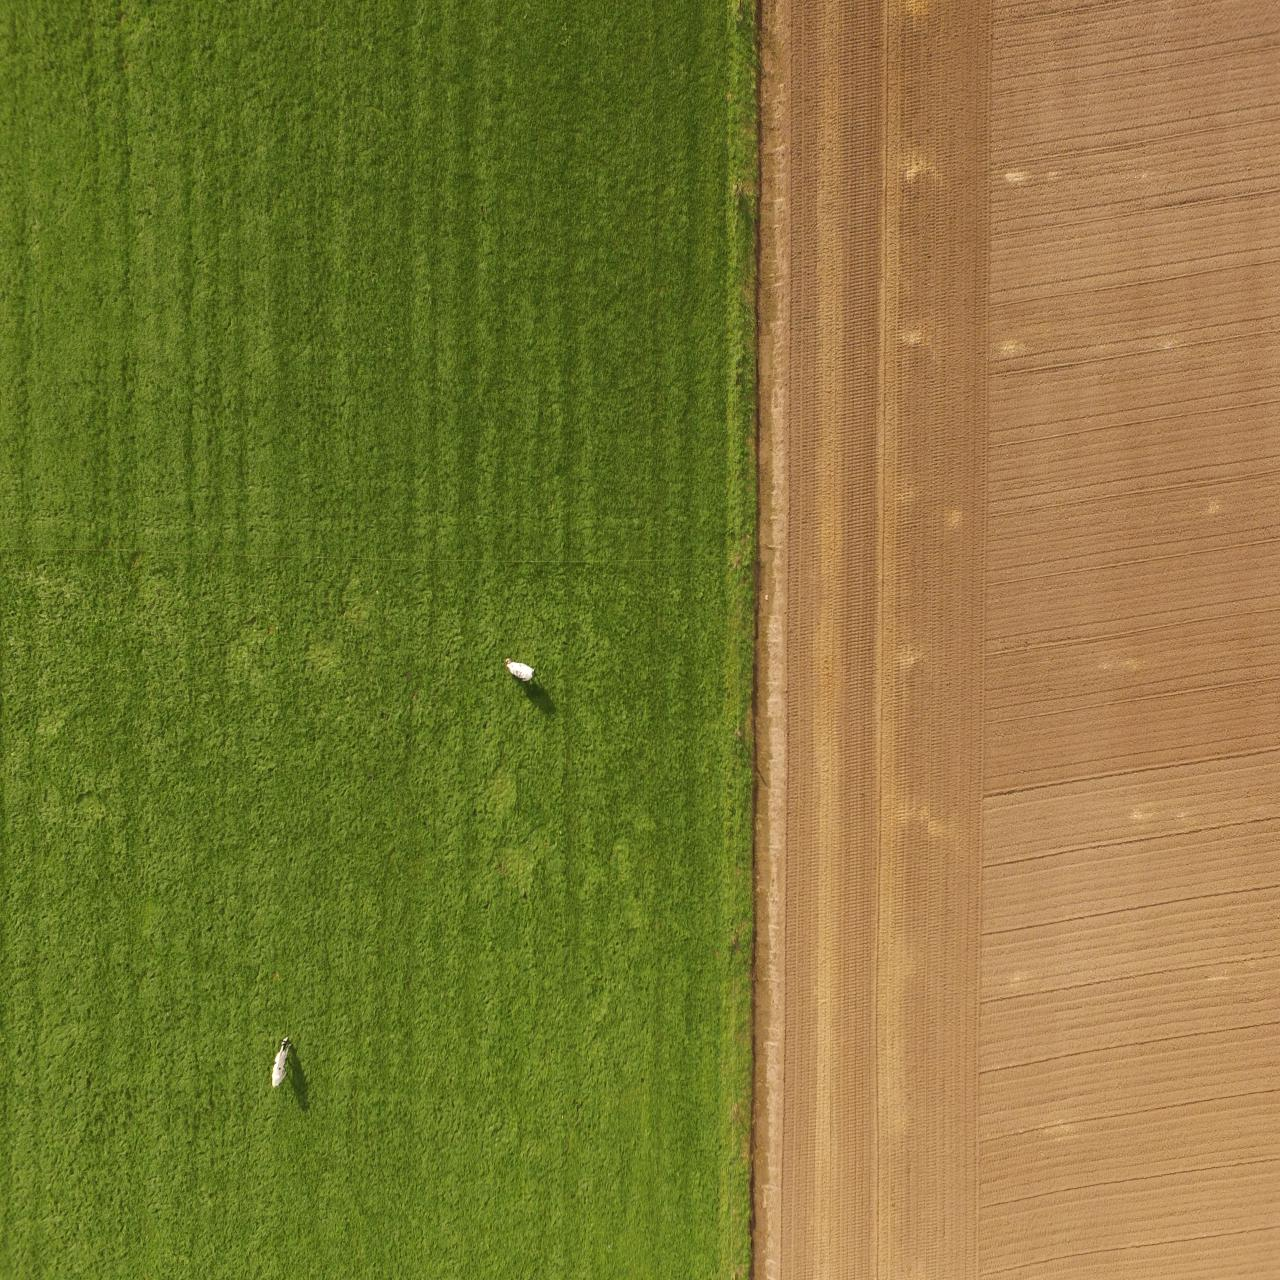cow: (266, 1034, 295, 1092), (504, 658, 542, 693)
